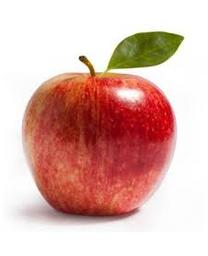apple: (20, 45, 178, 215)
